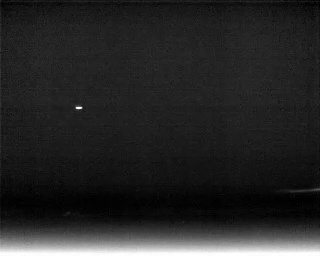AIRPLANE: (74, 104, 84, 112)
